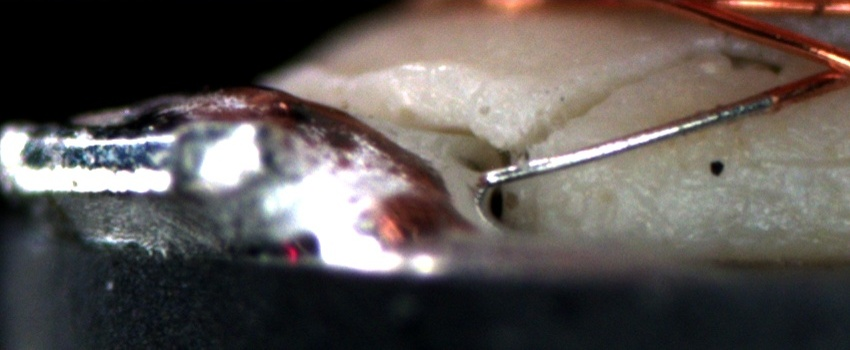CL: (795, 36, 849, 91)
DL: (752, 129, 850, 188)
TS: (483, 92, 773, 186)
